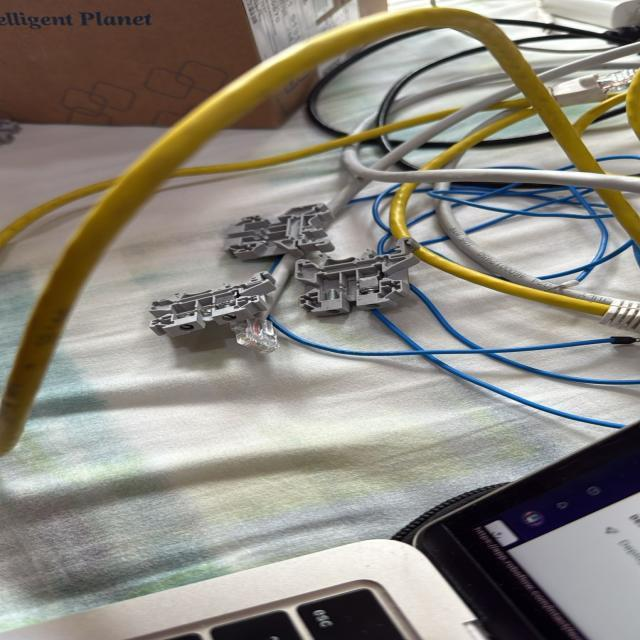Reject: (296, 240, 419, 312), (148, 272, 277, 336), (226, 204, 338, 258)
